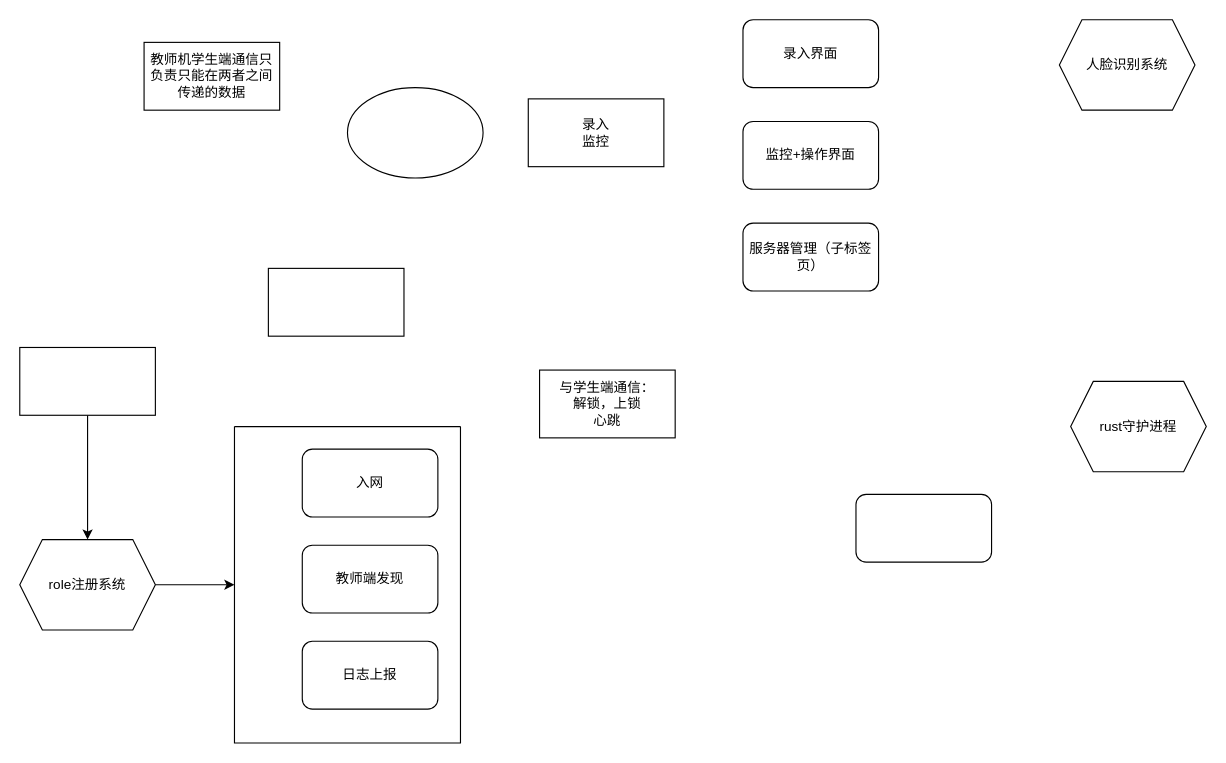
Some shapes in this 1226 by 763 pixel diagram are drawn without their labels. Here are the shapes that lost their labels. From the top down, the centre of each, then its label:
At (x=414, y=132): "教师端：".
At (x=87, y=380): "搭桥 人脸数据库 日志上报 分发客户端代码".
